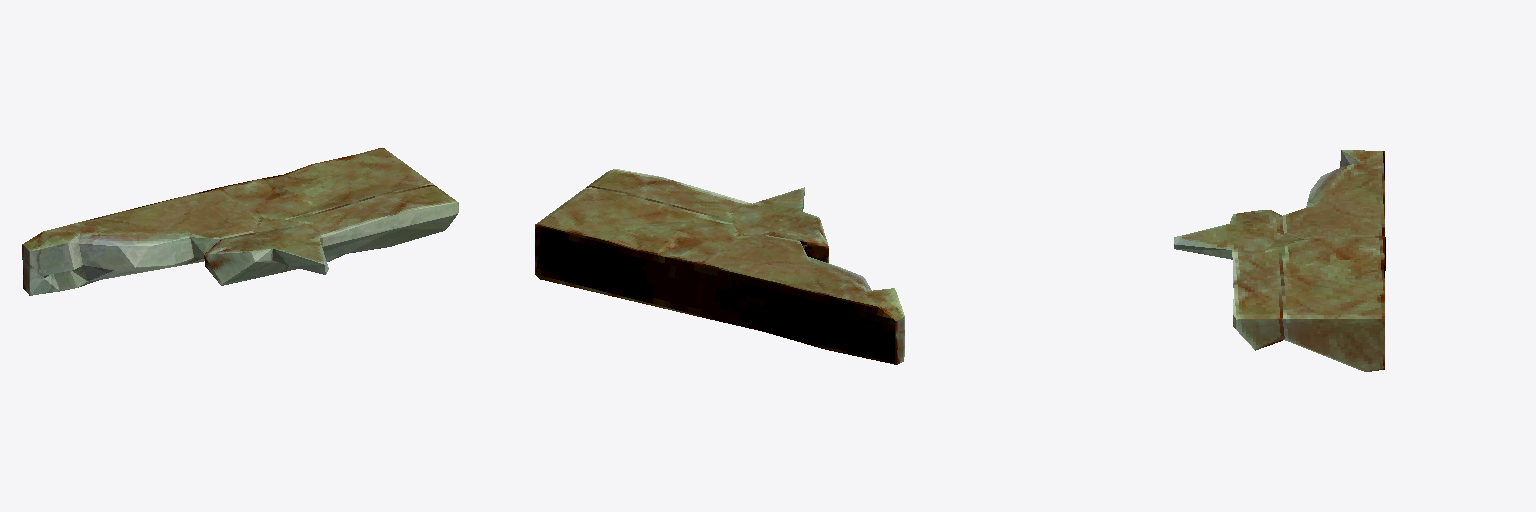
The picture shows the model from 3 angles: view 1: azimuth 30°, elevation 25°; view 2: azimuth 150°, elevation 25°; view 3: azimuth 270°, elevation 25°; orthographic projection.
Visible parts, largest first — view 1: Dn_HL_Ruins_Trim_Base_DMG_8M_A; view 2: Dn_HL_Ruins_Trim_Base_DMG_8M_A; view 3: Dn_HL_Ruins_Trim_Base_DMG_8M_A.
Boxes of the visible parts, x1,y1,x2,y2 form: Dn_HL_Ruins_Trim_Base_DMG_8M_A: [22, 148, 458, 295]; Dn_HL_Ruins_Trim_Base_DMG_8M_A: [535, 169, 904, 364]; Dn_HL_Ruins_Trim_Base_DMG_8M_A: [1174, 150, 1385, 371].
Size of the model in its own units: 5.5 by 0.8852 by 2.79.
Materials: 1 (1 with a texture image).